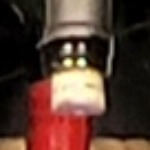bottle: (27, 22, 126, 117)
